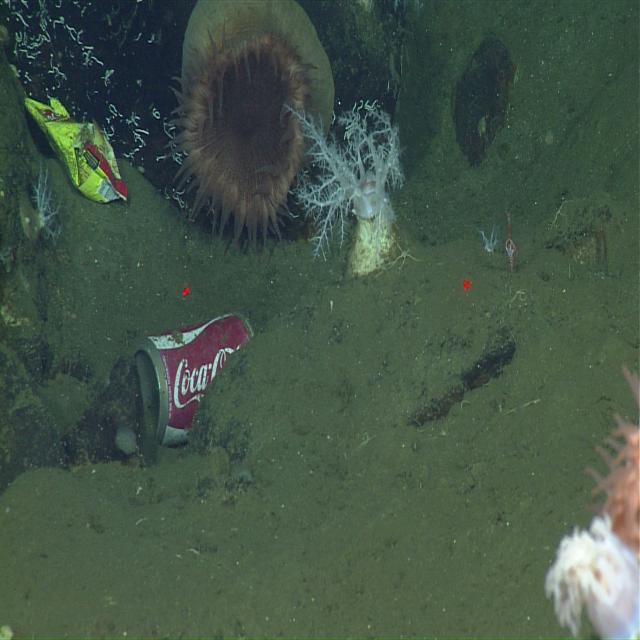Brittle Star: (390, 236, 423, 275)
Not Brittle Star: (161, 4, 331, 261), (293, 95, 409, 276), (131, 306, 258, 452), (24, 90, 130, 208), (16, 161, 66, 252), (45, 62, 70, 84)
